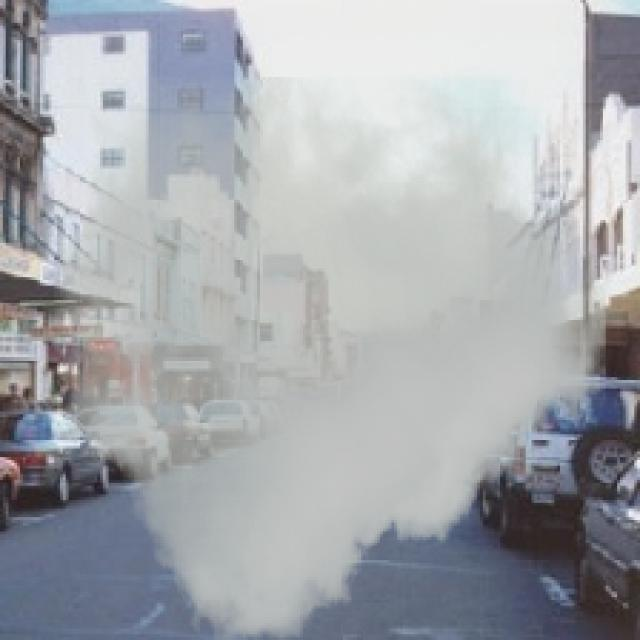Smoke: (54, 77, 609, 637)
